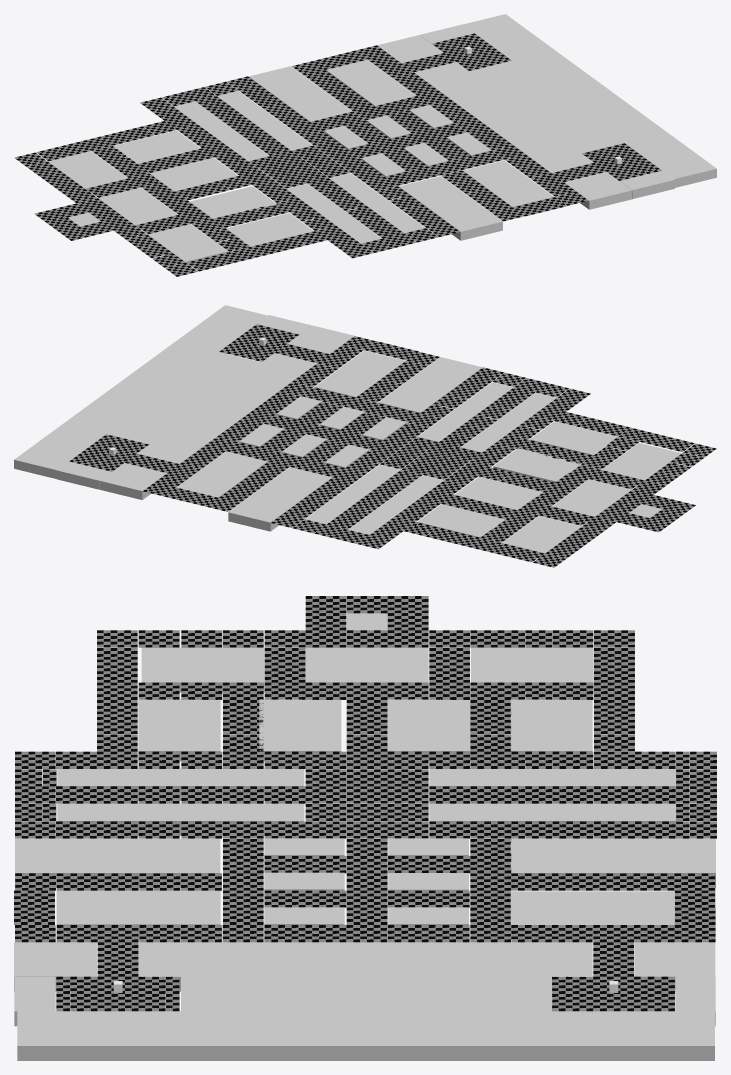
File: Level Design GAMEJAMPLUS2024.fbx
3 views of the same model, one above another, from view 1: azimuth 30°, elevation 25°; view 2: azimuth 150°, elevation 25°; view 3: azimuth 270°, elevation 25° (orthographic). The views are drawn at different scales.
Parts seen in each view (by area): view 1: Selva (×16), Piedras (×6), Agua (×5), Box045; view 2: Selva (×16), Piedras (×6), Agua (×5), Box045; view 3: Selva (×17), Piedras (×6), Agua (×5), Box045.
Boxes of the visible parts, bbox=[...] form: Selva (×16): bbox=[48, 14, 716, 266]; Piedras (×6): bbox=[173, 60, 624, 249]; Agua (×5): bbox=[248, 24, 631, 240]; Box045: bbox=[620, 171, 674, 199]; Selva (×16): bbox=[14, 305, 681, 558]; Piedras (×6): bbox=[106, 351, 556, 541]; Agua (×5): bbox=[57, 325, 482, 531]; Box045: bbox=[257, 315, 311, 334]; Selva (×17): bbox=[17, 613, 714, 1060]; Piedras (×6): bbox=[57, 768, 676, 1011]; Agua (×5): bbox=[14, 839, 715, 1026]; Box045: bbox=[14, 977, 55, 1026].
Bounding box in the file's own units: 11672 × 320 × 7709.
Materials: 2 (2 with a texture image).
